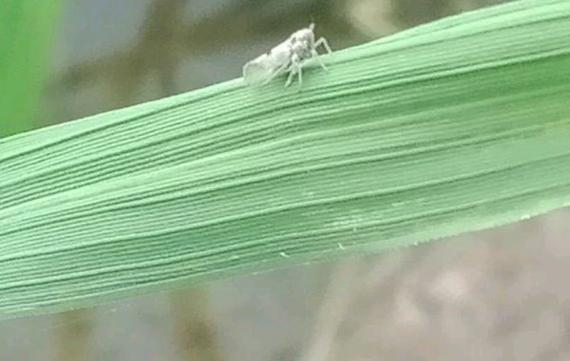Delphacidae: (242, 22, 332, 89)
